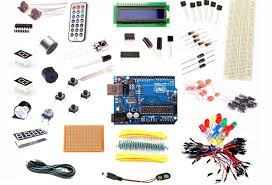arduino: (110, 73, 180, 131)
